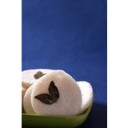idly: (33, 70, 82, 115), (76, 78, 94, 110), (22, 69, 54, 85)
